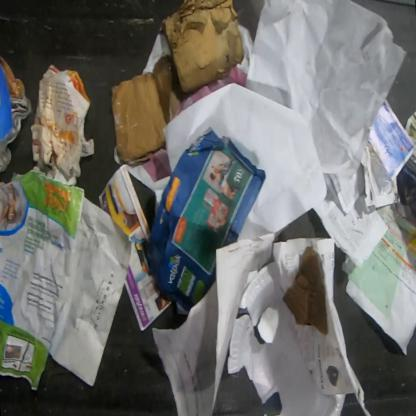cardboard: (156, 0, 244, 94), (110, 54, 183, 164), (30, 64, 95, 187)
rigid_plastic: (226, 260, 347, 415)
soft_plastic: (0, 54, 26, 99)
